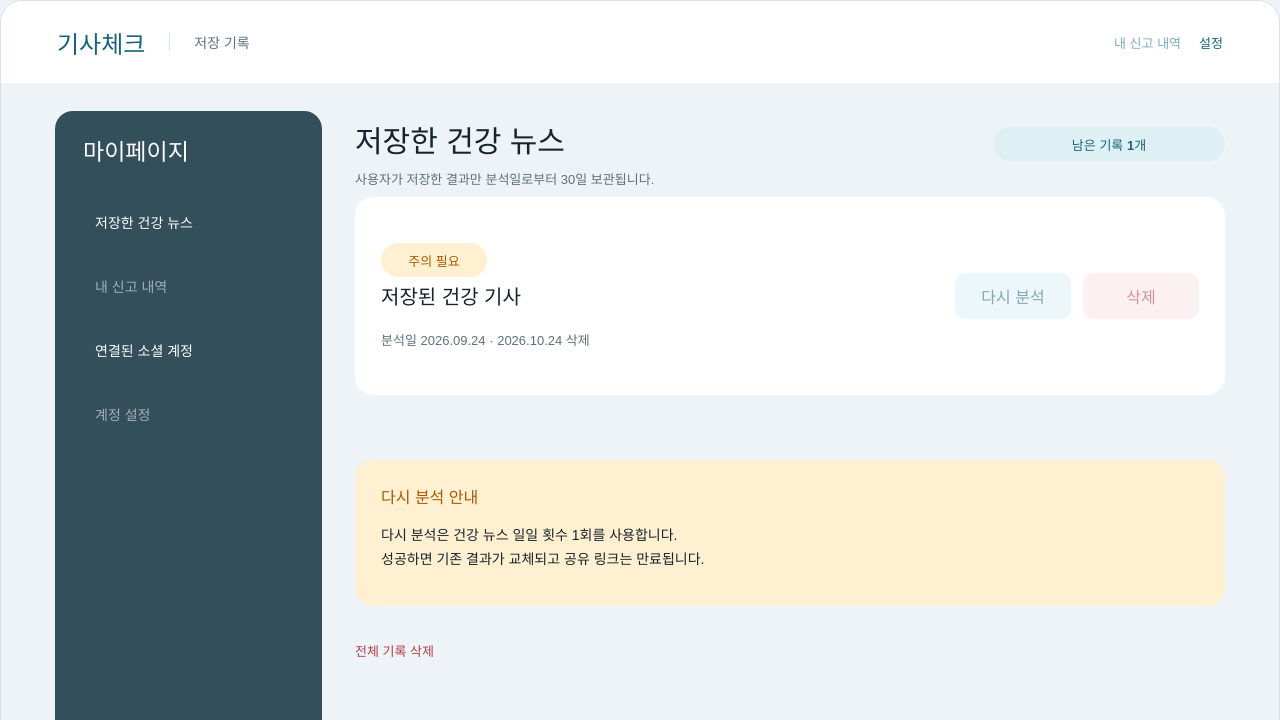
Test: SavedRecordsPage › 전체 삭제 실패 시 기존 목록과 오류를 유지한다
Click the button "전체 기록 삭제".
click(394, 650)  # box [355,641,434,660]
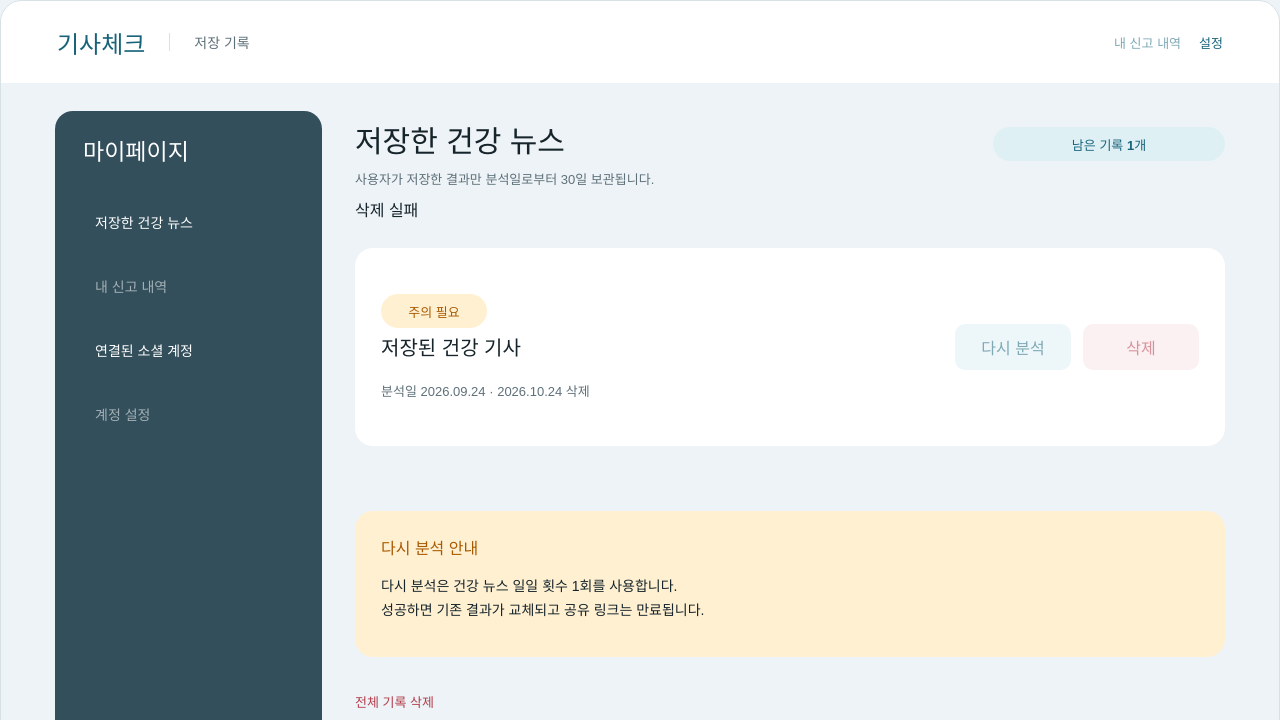
Expected: the heading "저장된 건강 기사" is shown, [381,337,521,359]
Expected: the message reads "삭제 실패", [355,202,418,219]
